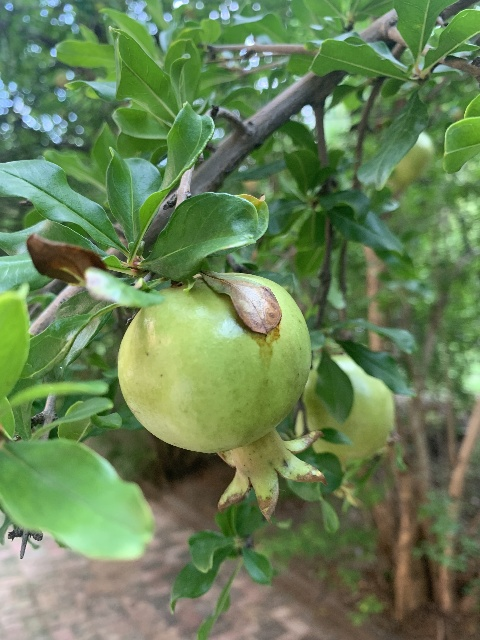mid-growth: (117, 272, 326, 521), (294, 353, 396, 508), (386, 131, 435, 194)
